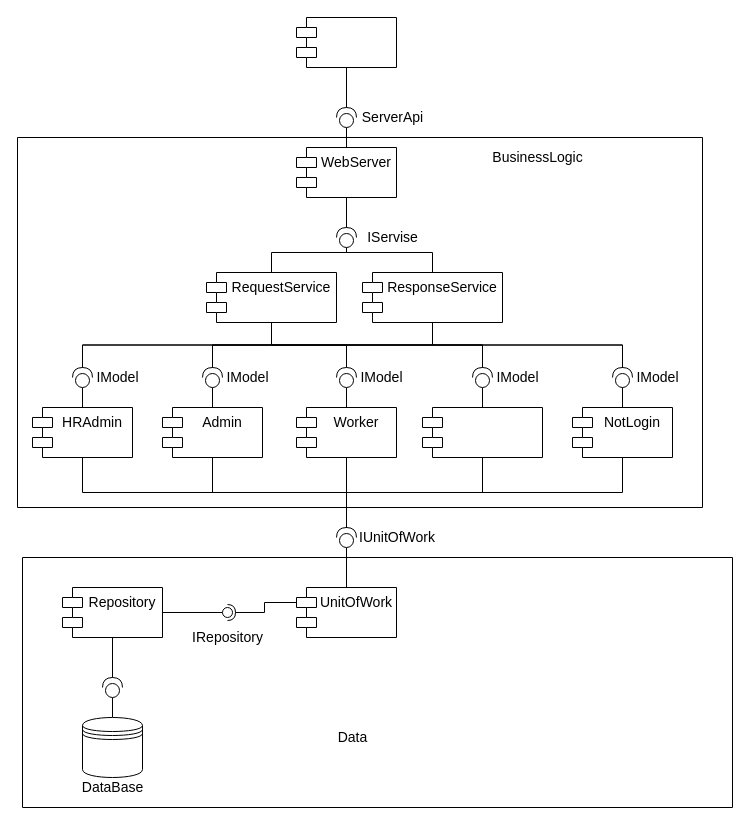
Some shapes in this 750 by 825 pixel diagram are drawn without their labels. The centre of each missing label's shape, as x and y in pixels:
UI: [346,42]
Warehouseman: [482,432]
